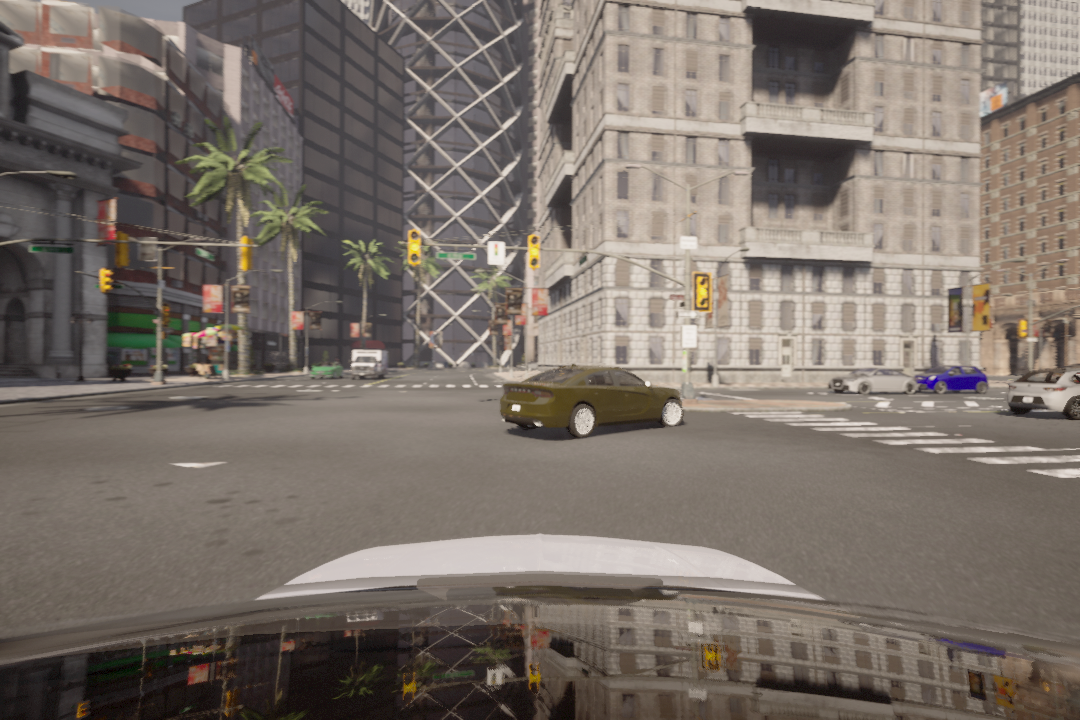TrafficLight: (695, 272, 714, 314), (407, 231, 423, 265), (531, 235, 541, 273)
